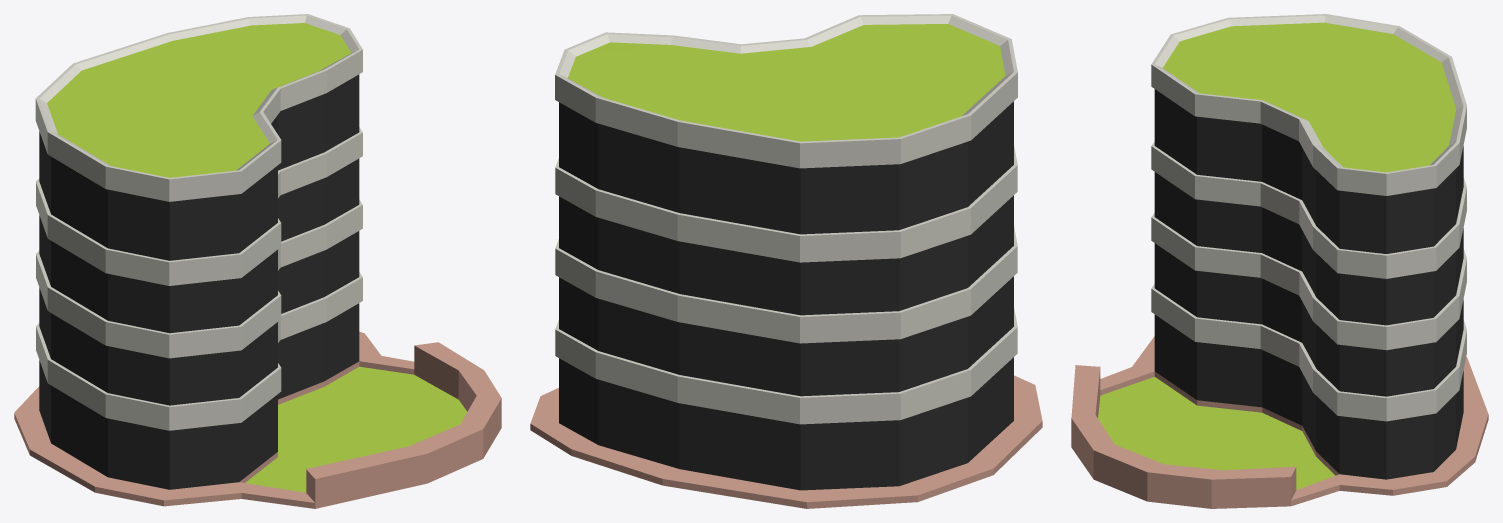
Rendered from Building4.fbx.
3 views of the same model, side by side, from view 1: azimuth 30°, elevation 25°; view 2: azimuth 150°, elevation 25°; view 3: azimuth 270°, elevation 25° (orthographic). The views are drawn at different scales.
Visible parts, largest first — view 1: building_4; view 2: building_4; view 3: building_4.
Part boxes in pixels (<box>): building_4: <box>14,14,501,508</box>; building_4: <box>530,14,1042,508</box>; building_4: <box>1071,14,1488,508</box>.
Size of the model in its own units: 6287 by 4806 by 5802.
